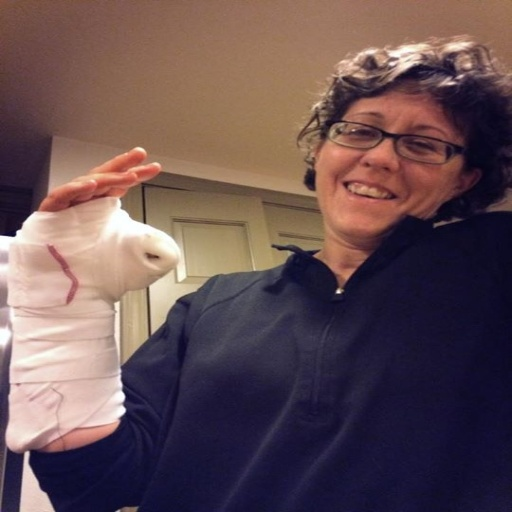hand: (36, 145, 163, 221)
